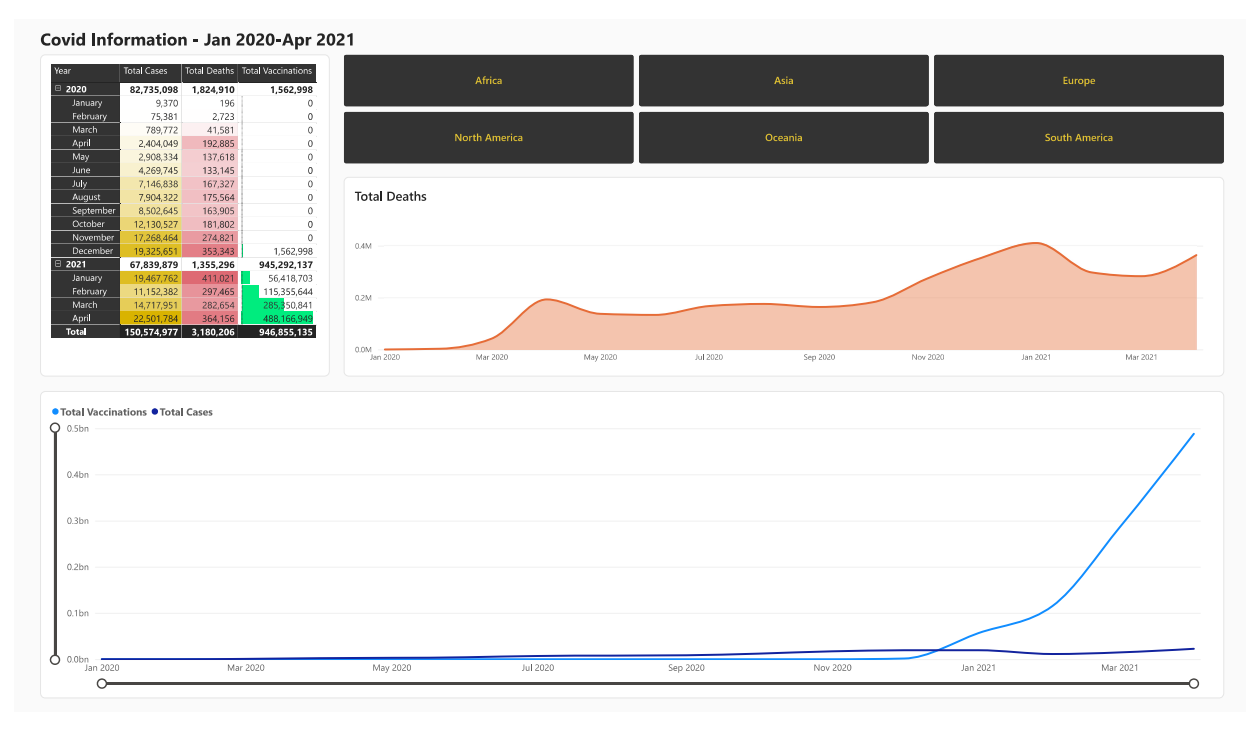

What the dashboard file says about the page in this screenshot:
{"tool":"powerbi","page":{"name":"Main Metrics","canvas":[1920,1080],"ordinal":0},"visuals":[{"type":"lineChart","fields":{"Category":["public populationdeathsvaccinated.Start of Month.Variation.Date Hierarchy.Year","public populationdeathsvaccinated.Start of Month.Variation.Date Hierarchy.Quarter","public populationdeathsvaccinated.Start of Month.Variation.Date Hierarchy.Month","public populationdeathsvaccinated.Start of Month.Variation.Date Hierarchy.Day"],"Y":["public populationdeathsvaccinated.Total Vaccinations","public populationdeathsvaccinated.Total Cases"]},"box":[40.6,580.1,1845.6,478.6],"z":0},{"type":"pivotTable","fields":{"Values":["public populationdeathsvaccinated.Total Cases","public populationdeathsvaccinated.Total Deaths","public populationdeathsvaccinated.Total Vaccinations"],"Rows":["public populationdeathsvaccinated.Start of Month.Variation.Date Hierarchy.Year","public populationdeathsvaccinated.Start of Month.Variation.Date Hierarchy.Month"]},"box":[40.6,55.4,451.6,501.6],"z":1000},{"type":"advancedSlicerVisual","fields":{"Values":["public populationdeathsvaccinated.continent"]},"box":[513.8,55.4,1372.4,171.7],"z":2000},{"type":"areaChart","title":"Total Deaths","fields":{"Y":["public populationdeathsvaccinated.Total Deaths"],"Category":["public populationdeathsvaccinated.Start of Month.Variation.Date Hierarchy.Year","public populationdeathsvaccinated.Start of Month.Variation.Date Hierarchy.Quarter","public populationdeathsvaccinated.Start of Month.Variation.Date Hierarchy.Month","public populationdeathsvaccinated.Start of Month.Variation.Date Hierarchy.Day"]},"box":[513.8,246.1,1372.4,311],"z":3000},{"type":"textbox","box":[40.6,12.2,678.8,39.2],"z":3001}]}

Visuals, with their boxes on the page's 1920x1080 design canvas (x1, y1, x2, y2). These are canvas units, not pixel positions in the 1257x730 screenshot, which may show the page scaled, cropped or inside an application window:
lineChart - public populationdeathsvaccinated.Start of Month.Variation.Date Hierarchy.Year x public populationdeathsvaccinated.Start of Month.Variation.Date Hierarchy.Quarter: bbox=[41, 580, 1886, 1059]
pivotTable - public populationdeathsvaccinated.Total Cases x public populationdeathsvaccinated.Total Deaths: bbox=[41, 55, 492, 557]
advancedSlicerVisual - public populationdeathsvaccinated.continent: bbox=[514, 55, 1886, 227]
"Total Deaths" areaChart: bbox=[514, 246, 1886, 557]
textbox: bbox=[41, 12, 719, 51]
